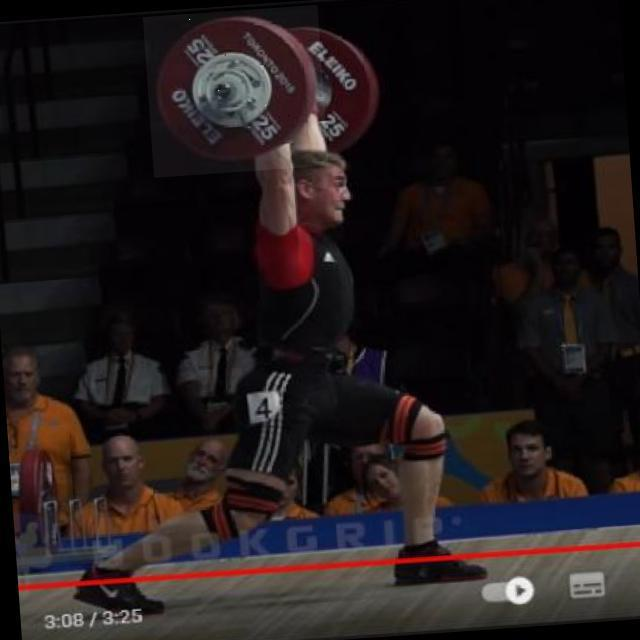barbell: (144, 6, 330, 179)
